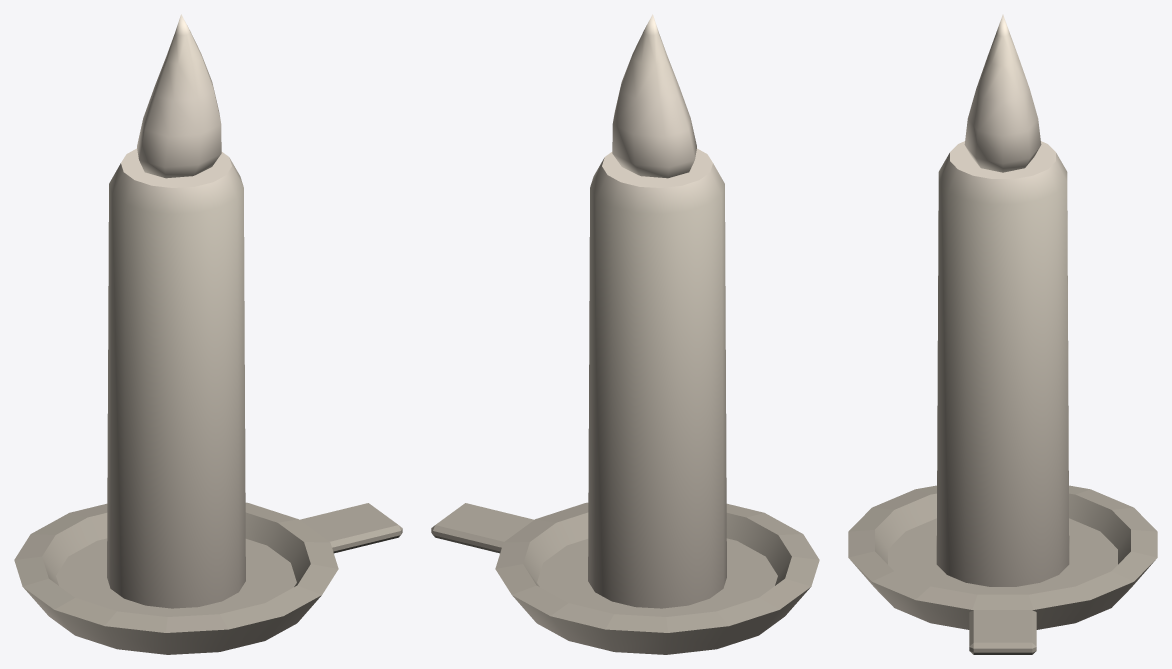
File: SM_VKI_Prop_Candle_Plate.fbx
3 views of the same model, side by side, from view 1: azimuth 30°, elevation 25°; view 2: azimuth 150°, elevation 25°; view 3: azimuth 270°, elevation 25° (orthographic). The views are drawn at different scales.
Visible parts, largest first — view 1: SM_VKI_Prop_Candle_Plate.001; view 2: SM_VKI_Prop_Candle_Plate.001; view 3: SM_VKI_Prop_Candle_Plate.001.
Part boxes in pixels (<box>): SM_VKI_Prop_Candle_Plate.001: <box>14,14,402,654</box>; SM_VKI_Prop_Candle_Plate.001: <box>431,14,819,654</box>; SM_VKI_Prop_Candle_Plate.001: <box>848,14,1157,654</box>.
Size of the model in its own units: 0.1737 by 0.277 by 0.1373.
